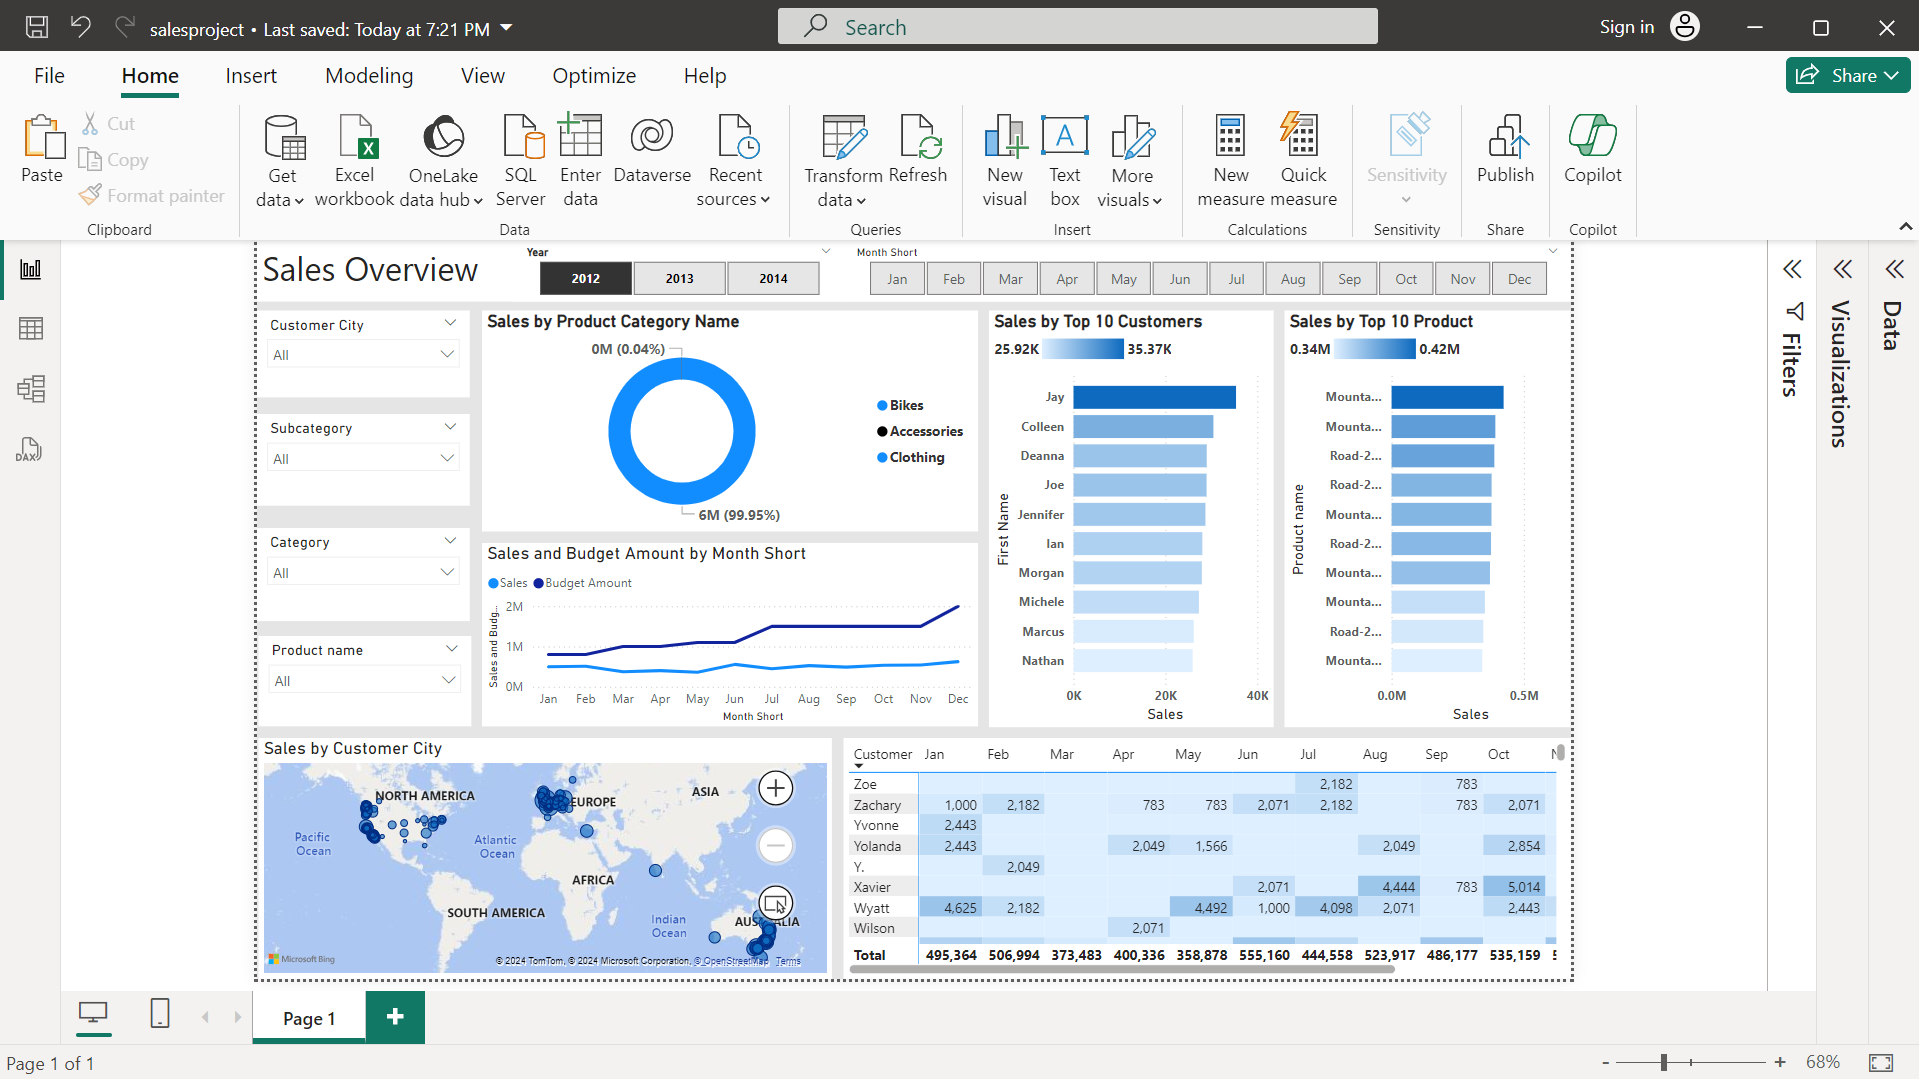

Layout of this report page (visuals, bound fields, positions):
{"tool":"powerbi","page":{"name":"Page 1","canvas":[1280,720],"ordinal":0},"visuals":[{"type":"textbox","box":[0,0,1278.8,59.9],"z":0},{"type":"slicer","fields":{"Values":["DIM_Customer.Customer City"]},"box":[0,68.1,207.4,84.8],"z":1000},{"type":"slicer","fields":{"Values":["DIM_Product.Product Subcategory Name"]},"box":[0,169.6,207.4,89.3],"z":2000},{"type":"slicer","fields":{"Values":["DIM_Product.Product Category Name"]},"box":[0,280.1,207.4,90.9],"z":3000},{"type":"slicer","fields":{"Values":["DIM_Product.Product name"]},"box":[1.5,386.1,207.4,87.8],"z":4000},{"type":"slicer","fields":{"Values":["DIM_Calender.Year"]},"box":[249.5,0,322.1,60],"z":5000},{"type":"slicer","fields":{"Values":["DIM_Calender.Month Short"]},"box":[571.6,0,709,60],"z":6000},{"type":"donutChart","fields":{"Category":["DIM_Product.Product Category Name"],"Y":["key measures.Sales"]},"box":[219.6,68.1,483,215],"z":7000},{"type":"lineChart","fields":{"Y":["key measures.Sales","key measures.Budget Amount"],"Category":["DIM_Calender.Month Short"]},"box":[219.6,295.3,483,178.7],"z":8000},{"type":"clusteredBarChart","title":"Sales by Top 10 Customers","fields":{"Y":["key measures.Sales"],"Category":["DIM_Customer.First Name"]},"box":[713.2,68.1,277.1,405.8],"z":9000},{"type":"clusteredBarChart","title":"Sales by Top 10 Product","fields":{"Y":["key measures.Sales"],"Category":["DIM_Product.Product name"]},"box":[1000.9,68.1,278.6,405.8],"z":10000},{"type":"map","fields":{"Category":["DIM_Customer.Customer City"],"Size":["key measures.Sales"]},"box":[1.5,484.5,558.7,234.7],"z":11000},{"type":"pivotTable","fields":{"Rows":["DIM_Customer.First Name"],"Values":["key measures.Sales"],"Columns":["DIM_Calender.Month Short"]},"box":[570.9,484.5,708.6,234.7],"z":12000}]}

Visuals, with their boxes on the page's 1280x720 design canvas (x1, y1, x2, y2). These are canvas units, not pixel positions in the 1919x1079 screenshot, which may show the page scaled, cropped or inside an application window:
textbox: detection(0, 0, 1279, 60)
slicer - DIM_Customer.Customer City: detection(0, 68, 207, 153)
slicer - DIM_Product.Product Subcategory Name: detection(0, 170, 207, 259)
slicer - DIM_Product.Product Category Name: detection(0, 280, 207, 371)
slicer - DIM_Product.Product name: detection(2, 386, 209, 474)
slicer - DIM_Calender.Year: detection(250, 0, 572, 60)
slicer - DIM_Calender.Month Short: detection(572, 0, 1281, 60)
donutChart - DIM_Product.Product Category Name x key measures.Sales: detection(220, 68, 703, 283)
lineChart - key measures.Sales x key measures.Budget Amount: detection(220, 295, 703, 474)
"Sales by Top 10 Customers" clusteredBarChart: detection(713, 68, 990, 474)
"Sales by Top 10 Product" clusteredBarChart: detection(1001, 68, 1280, 474)
map - DIM_Customer.Customer City x key measures.Sales: detection(2, 484, 560, 719)
pivotTable - DIM_Customer.First Name x key measures.Sales: detection(571, 484, 1280, 719)
